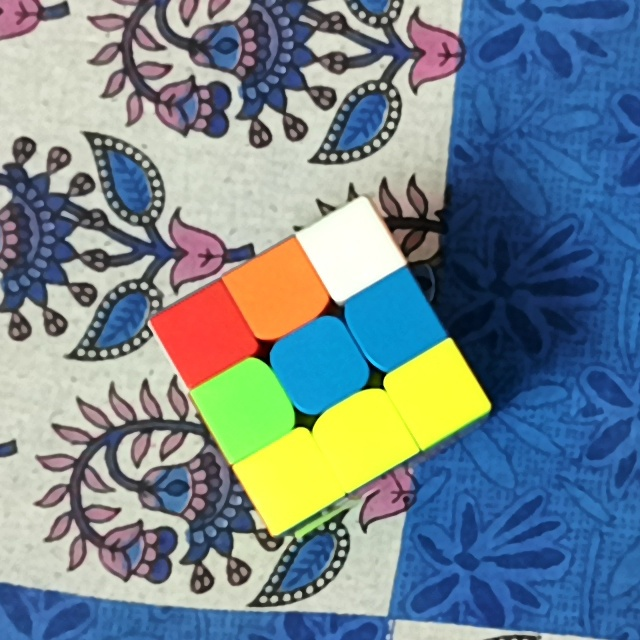tile: (248, 264, 309, 320), (259, 452, 316, 509), (407, 365, 463, 423), (324, 220, 379, 278), (367, 292, 422, 349), (338, 409, 391, 468), (218, 380, 270, 439), (292, 339, 348, 389), (179, 305, 227, 361)
